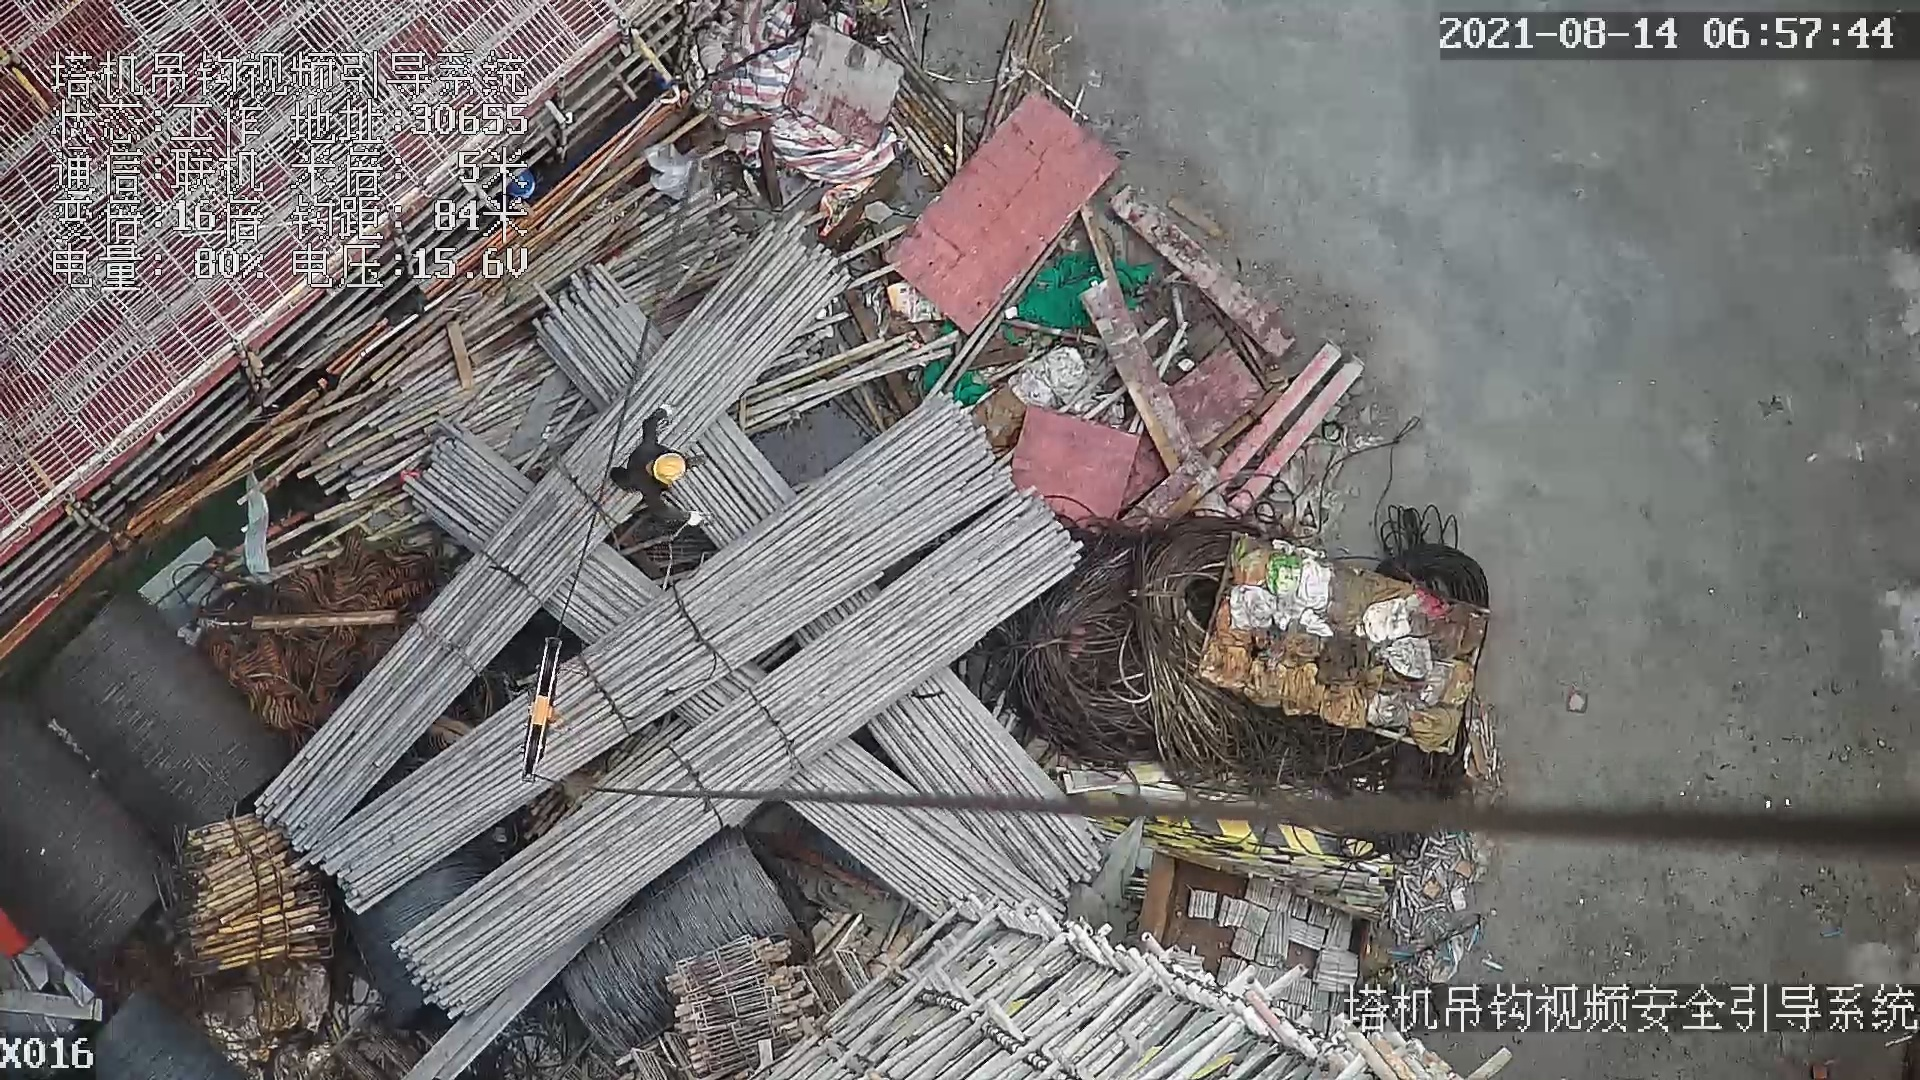helmet: (652, 453, 685, 484)
hook: (515, 632, 565, 794)
person: (610, 414, 710, 532)
rebar: (258, 215, 847, 851), (302, 397, 1013, 912), (392, 491, 1082, 1016), (865, 669, 1105, 899), (767, 739, 1061, 926)
scaffold: (177, 812, 335, 972)
